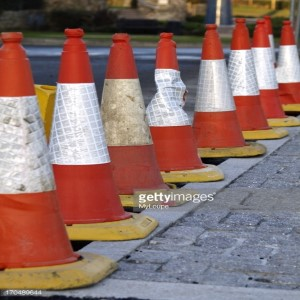traffic cone: (1, 32, 120, 291), (21, 28, 159, 241), (73, 32, 193, 207), (128, 32, 223, 183), (171, 25, 267, 158), (216, 15, 289, 140)
